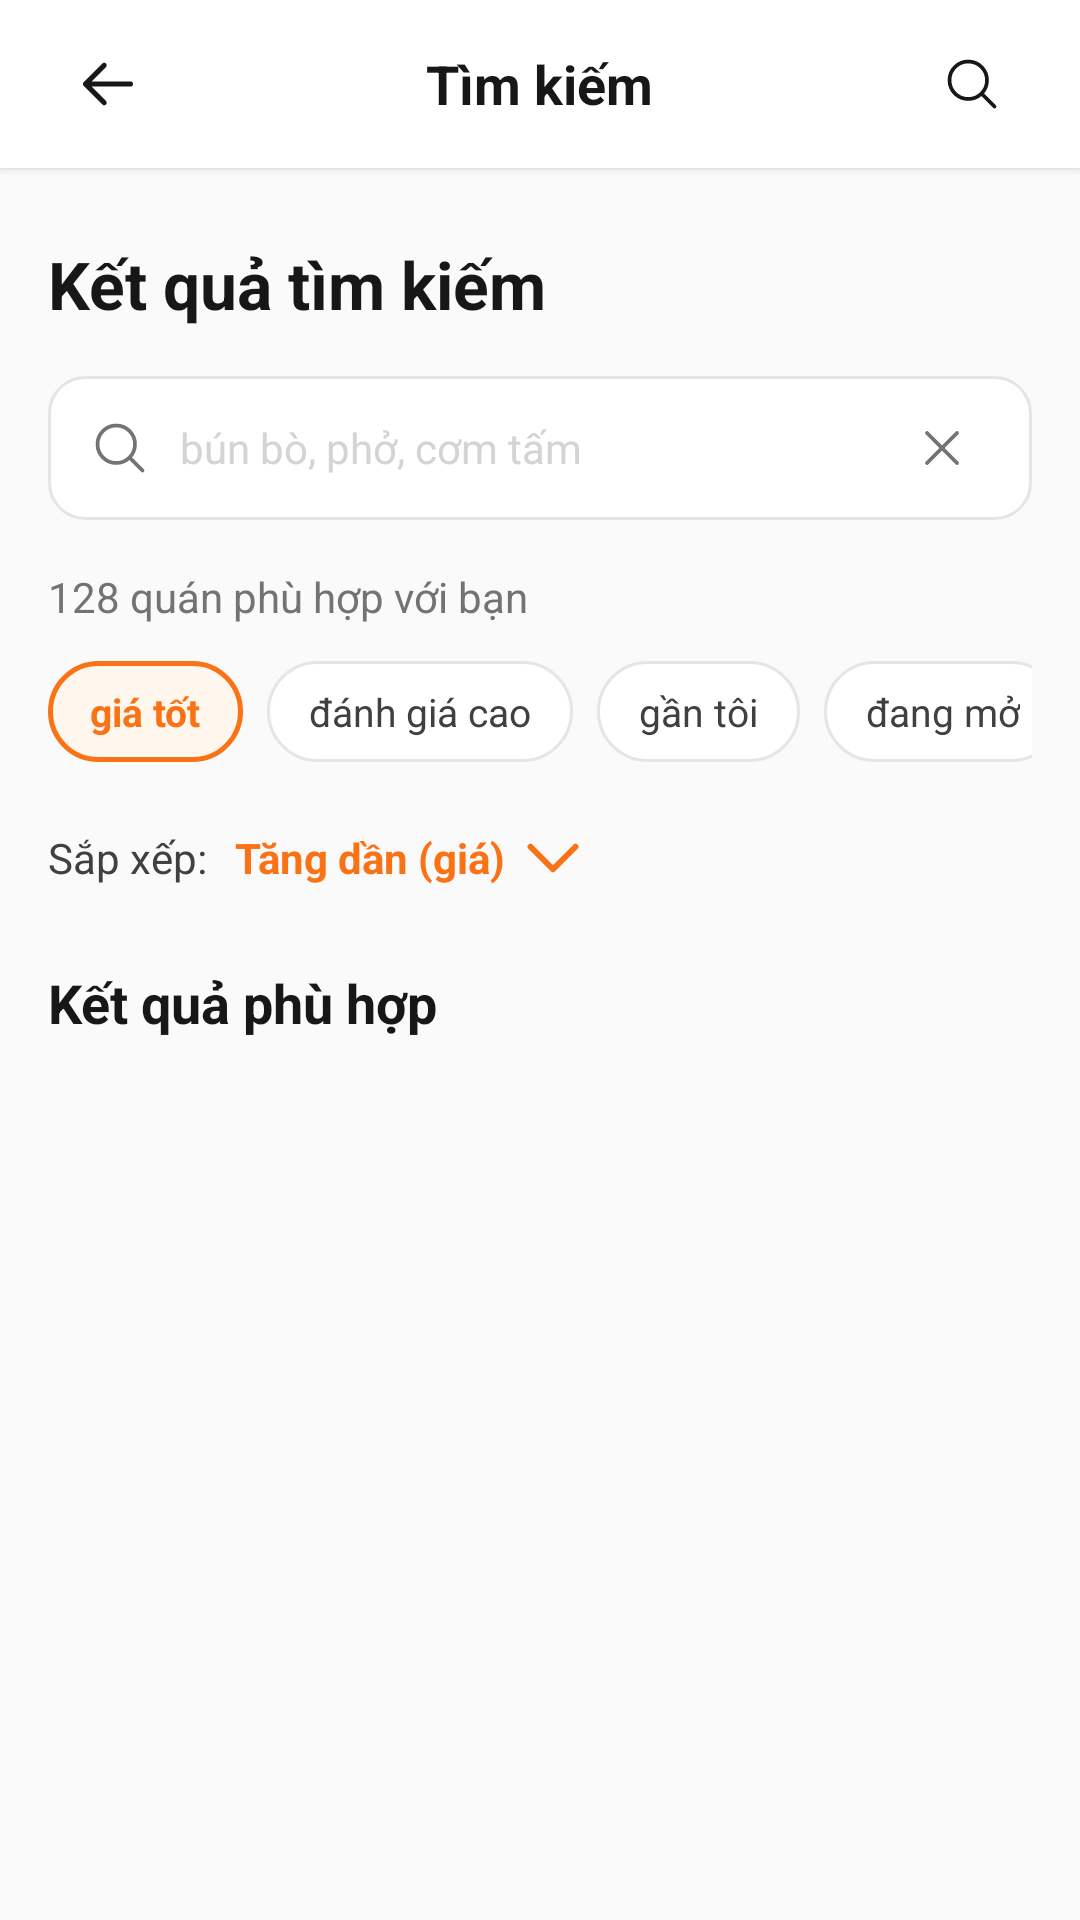

Icon click points for this 1080px×1920px phone screenshot, format point (x, y):
arrow left: point (108, 84)
close: point (942, 448)
search: point (972, 84), point (120, 448)
